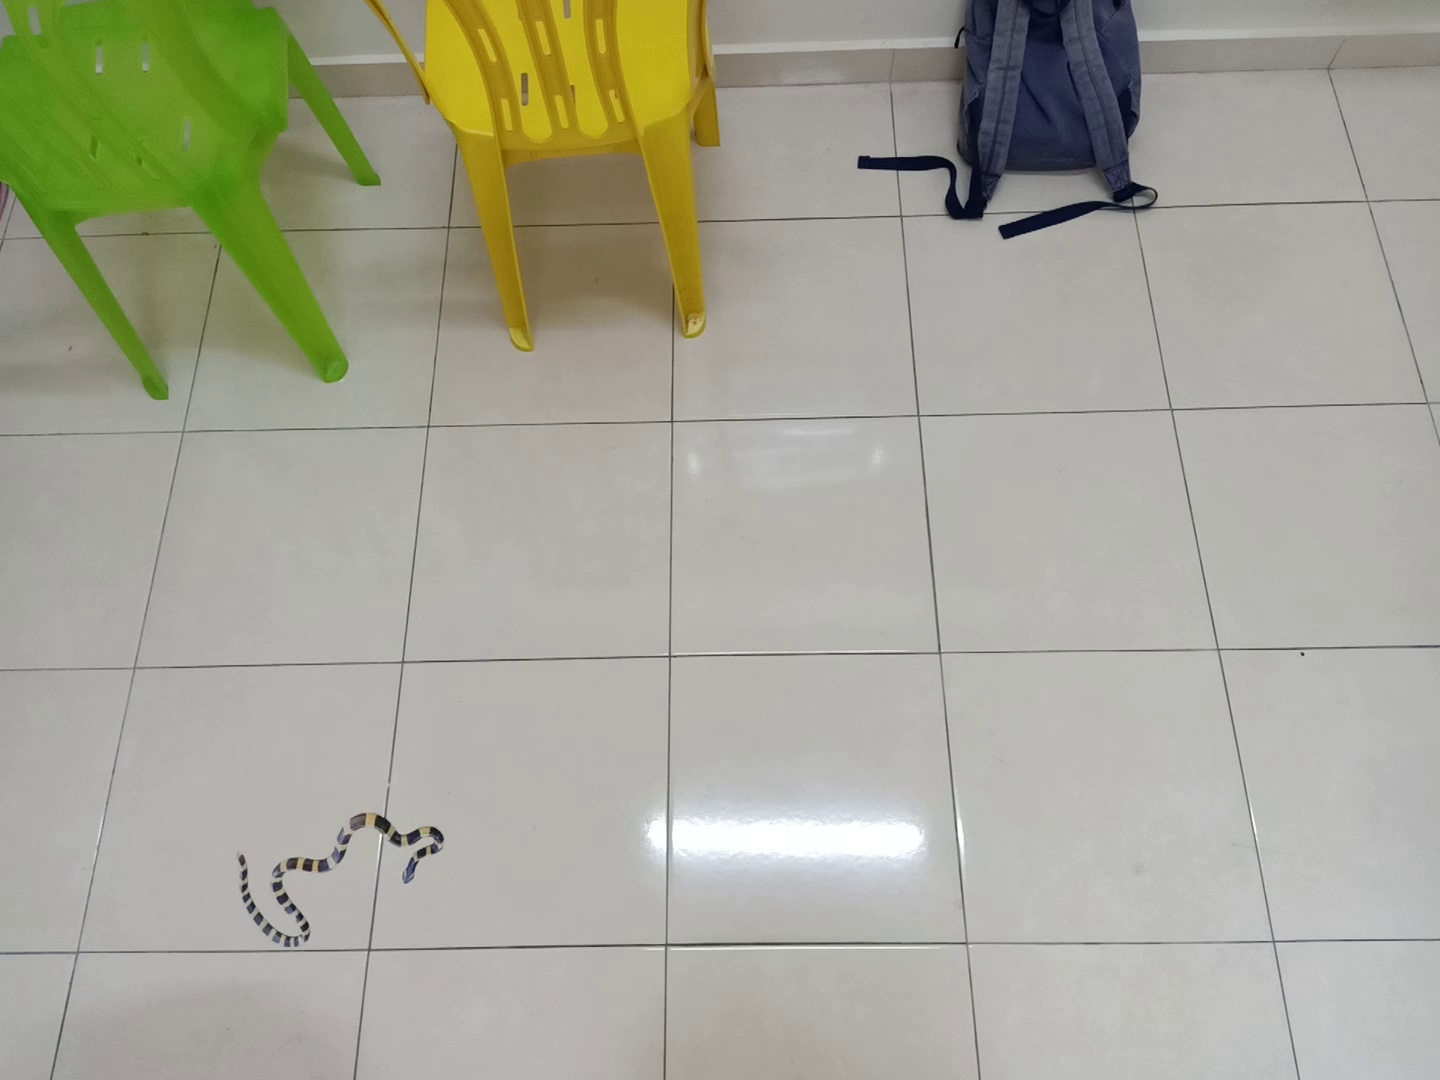snake: (234, 804, 454, 951)
